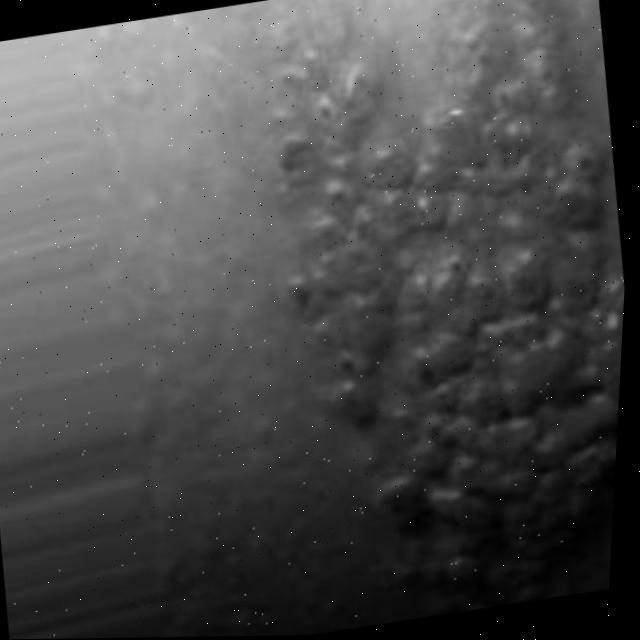Shingles: (224, 0, 640, 635)
